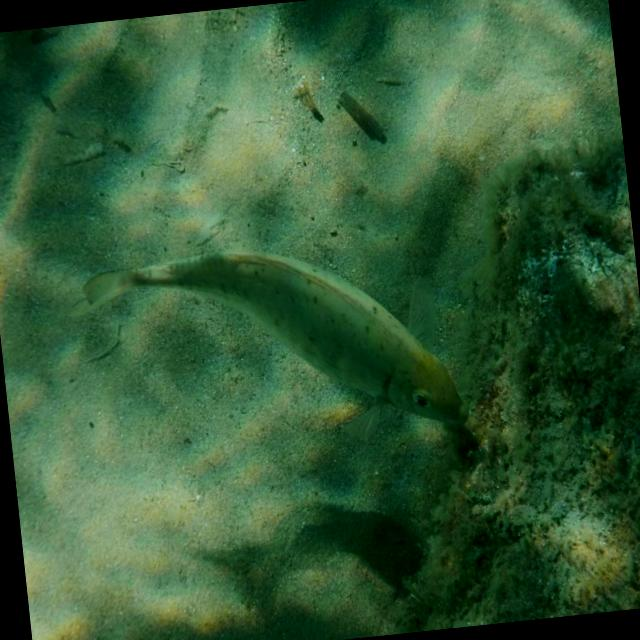Sokar Baligi: (67, 213, 478, 482)
